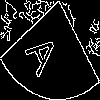A: (25, 24, 66, 80)
